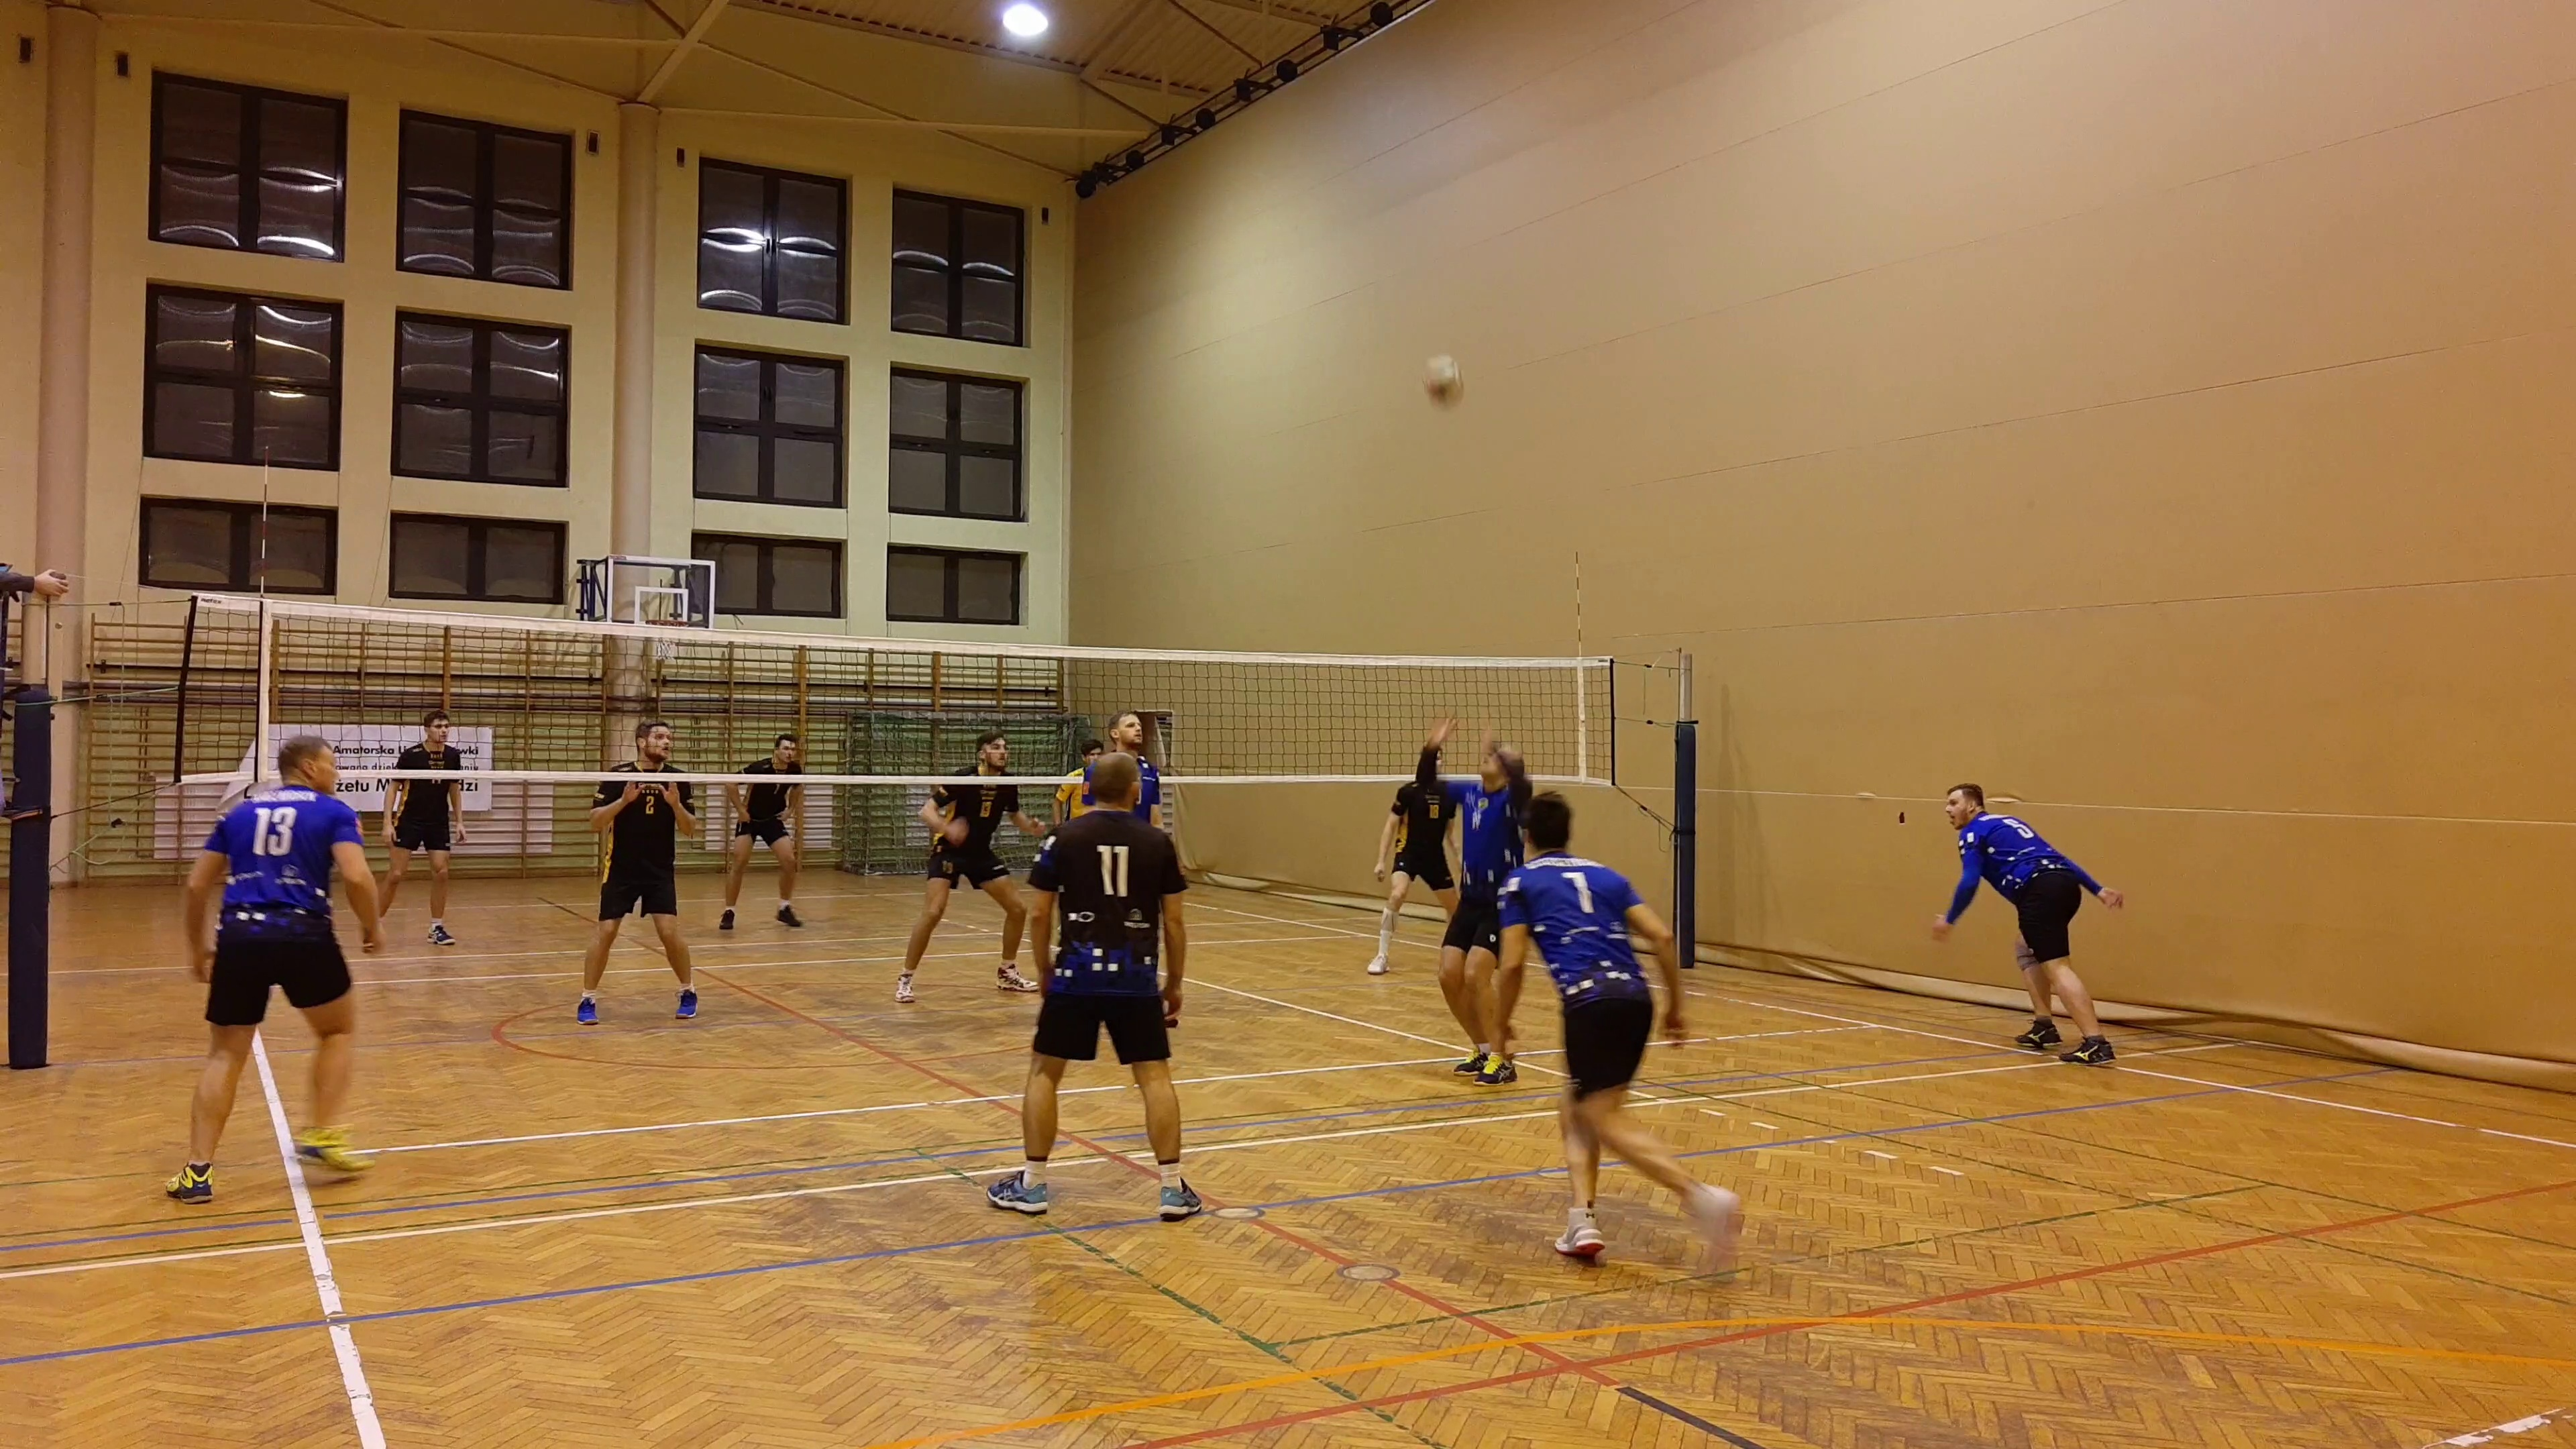ball: (1419, 361, 1467, 409)
